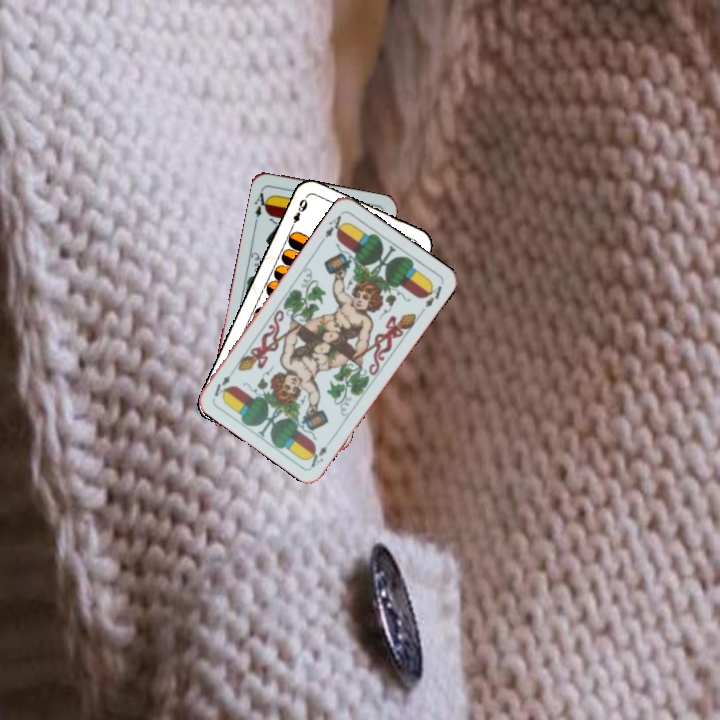E9: (287, 195, 310, 232)
EA: (321, 209, 348, 241), (251, 185, 272, 226), (305, 442, 329, 470)
